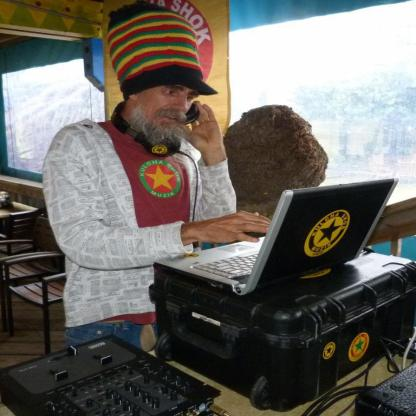board: (153, 178, 397, 297)
